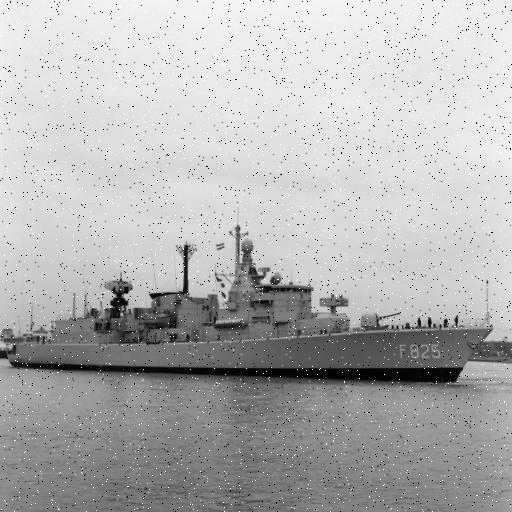Fragata: (4, 207, 494, 389)
